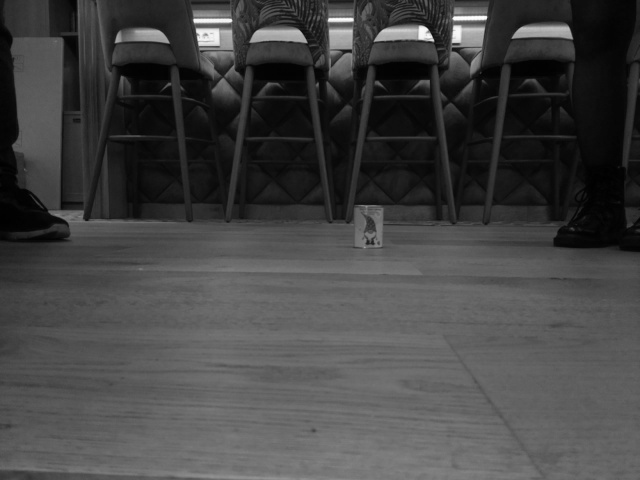gnome: (356, 211, 381, 247)
